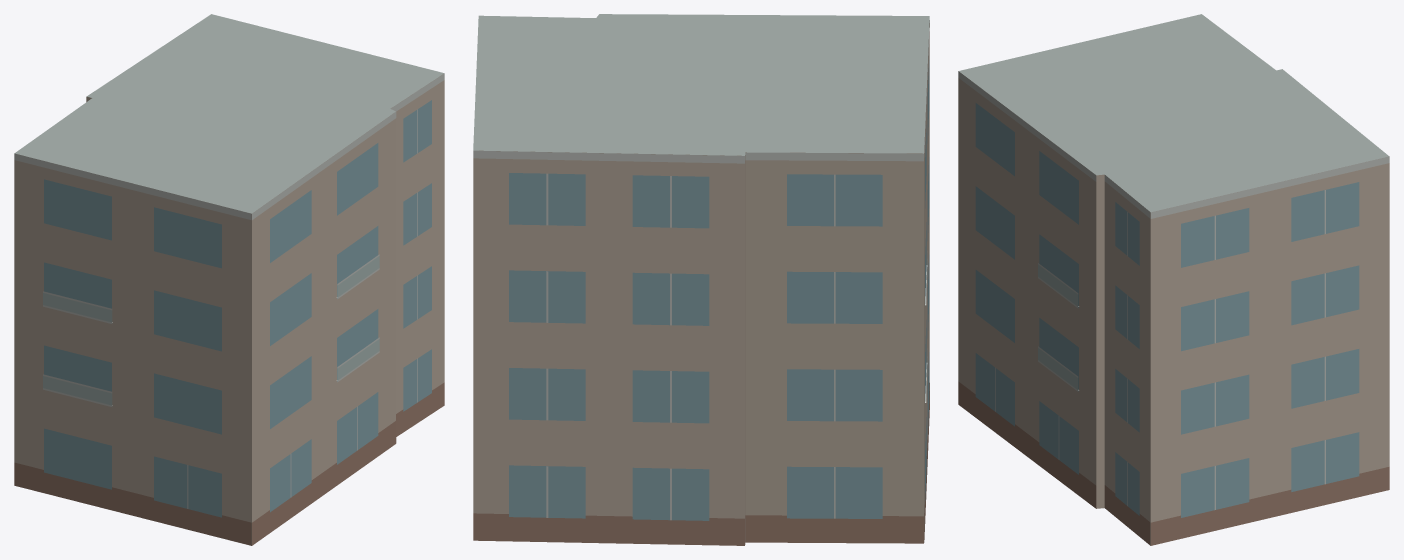
File: survey-upis-32622226.glb
3 views of the same model, side by side, from view 1: azimuth 30°, elevation 25°; view 2: azimuth 150°, elevation 25°; view 3: azimuth 270°, elevation 25° (orthographic). The views are drawn at different scales.
Parts seen in each view (by area): view 1: survey-upis-32622226.tmp; view 2: survey-upis-32622226.tmp; view 3: survey-upis-32622226.tmp.
Part boxes in pixels (<box>): survey-upis-32622226.tmp: <box>14,14,444,545</box>; survey-upis-32622226.tmp: <box>473,14,929,545</box>; survey-upis-32622226.tmp: <box>958,14,1389,545</box>.
Size of the model in its own units: 15.57 by 12.2 by 14.3.
